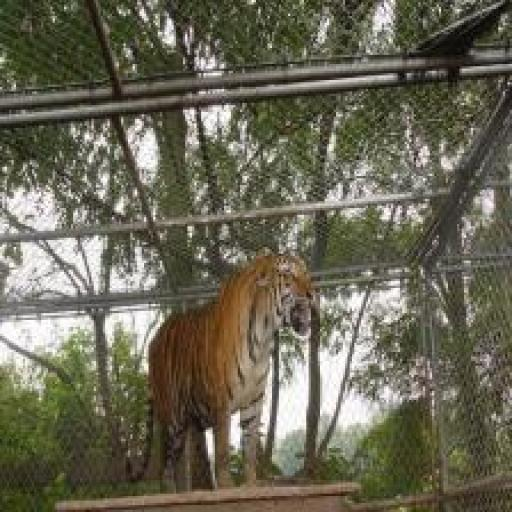Tiger: (80, 247, 359, 511)
